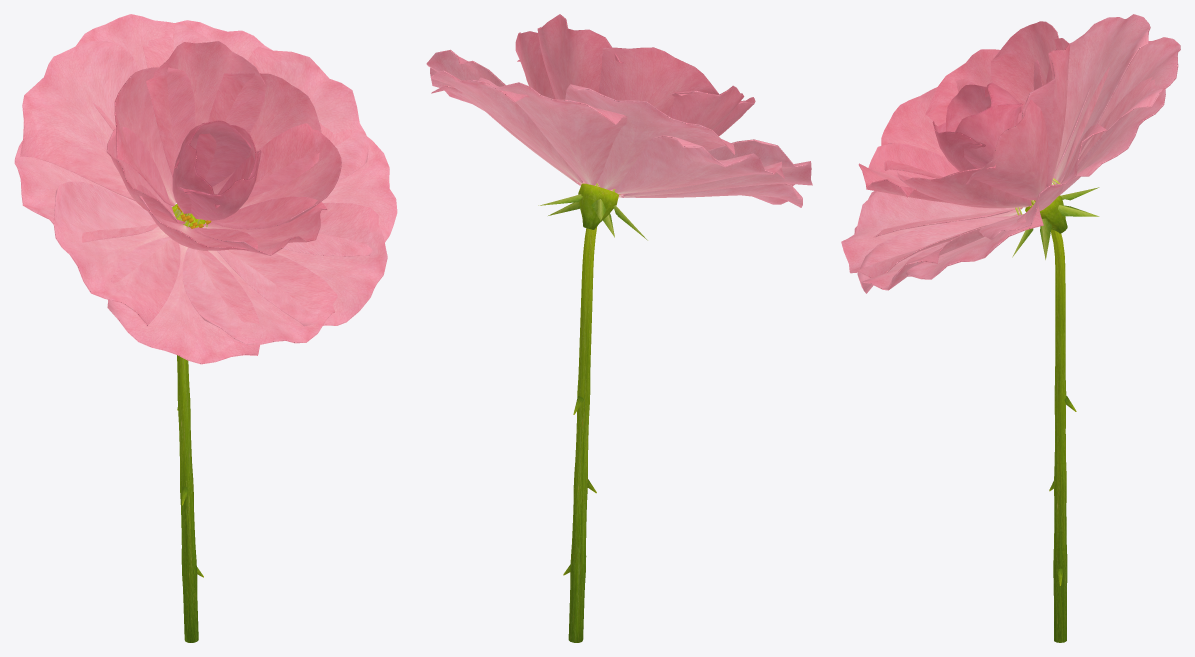
Rendered from rose_21.glb.
3 renders of one model, left to right at view 1: azimuth 30°, elevation 25°; view 2: azimuth 150°, elevation 25°; view 3: azimuth 270°, elevation 25°, orthographic. The views are drawn at different scales.
Visible parts, largest first — view 1: Petal_1_outer_03, Petal_3_outer_04, Petal_5_outer_04, Petal_4_outer_01, Petal_6_outer_02, Petal_14_middle_03, Petal_15_middle_01, Petal_8_outer_02, Petal_13_middle_02, Petal_12_middle_04, Petal_7_outer_03, Stem_Skinned (+10 smaller); view 2: Stem_Skinned, Petal_0_outer_01, Petal_2_outer_02, Petal_1_outer_03, Petal_15_middle_01, Petal_14_middle_03, Petal_9_outer_03, Petal_3_outer_04, Petal_16_middle_02, Hypanthium_and_five_sepals, Petal_8_outer_02, Petal_4_outer_01 (+1 smaller); view 3: Petal_1_outer_03, Stem_Skinned, Petal_5_outer_04, Petal_13_middle_02, Petal_6_outer_02, Petal_0_outer_01, Petal_15_middle_01, Petal_11_middle_03, Petal_9_outer_03, Petal_14_middle_03, Petal_10_middle_01, Petal_12_middle_04 (+9 smaller).
Part boxes in pixels (bbox=[...]): Petal_1_outer_03: bbox=[20, 41, 140, 200]; Petal_3_outer_04: bbox=[53, 181, 180, 326]; Petal_5_outer_04: bbox=[182, 247, 337, 344]; Petal_4_outer_01: bbox=[107, 237, 259, 364]; Petal_6_outer_02: bbox=[217, 202, 387, 326]; Petal_14_middle_03: bbox=[146, 41, 266, 176]; Petal_15_middle_01: bbox=[114, 67, 195, 206]; Petal_8_outer_02: bbox=[247, 47, 369, 180]; Petal_13_middle_02: bbox=[208, 73, 321, 197]; Petal_12_middle_04: bbox=[212, 123, 341, 229]; Petal_7_outer_03: bbox=[282, 123, 397, 256]; Stem_Skinned: bbox=[177, 213, 203, 642]; Stem_Skinned: bbox=[563, 226, 597, 642]; Petal_0_outer_01: bbox=[478, 77, 627, 185]; Petal_2_outer_02: bbox=[615, 135, 784, 194]; Petal_1_outer_03: bbox=[565, 84, 734, 190]; Petal_15_middle_01: bbox=[598, 47, 719, 115]; Petal_14_middle_03: bbox=[537, 14, 623, 99]; Petal_9_outer_03: bbox=[430, 70, 583, 182]; Petal_3_outer_04: bbox=[623, 139, 812, 197]; Petal_16_middle_02: bbox=[668, 85, 744, 129]; Hypanthium_and_five_sepals: bbox=[538, 183, 647, 240]; Petal_8_outer_02: bbox=[426, 49, 577, 183]; Petal_4_outer_01: bbox=[618, 183, 802, 207]; Petal_1_outer_03: bbox=[1052, 14, 1150, 184]; Stem_Skinned: bbox=[1049, 229, 1076, 642]; Petal_5_outer_04: bbox=[841, 191, 1020, 278]; Petal_13_middle_02: bbox=[966, 99, 1048, 200]; Petal_6_outer_02: bbox=[857, 215, 1017, 293]; Petal_0_outer_01: bbox=[1060, 37, 1180, 183]; Petal_15_middle_01: bbox=[991, 21, 1058, 107]; Petal_11_middle_03: bbox=[858, 142, 959, 203]; Petal_9_outer_03: bbox=[1058, 77, 1165, 196]; Petal_14_middle_03: bbox=[1021, 38, 1070, 187]; Petal_10_middle_01: bbox=[881, 78, 975, 178]; Petal_12_middle_04: bbox=[897, 164, 1031, 208].
Bounding box in the file's own units: 0.1975 × 0.3311 × 0.1706.
7 materials, 7 textured.
